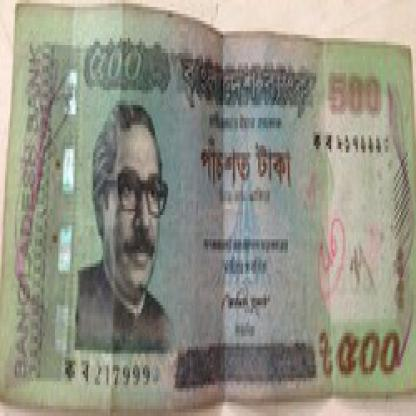500 taka: (2, 7, 414, 412), (80, 31, 160, 101)
